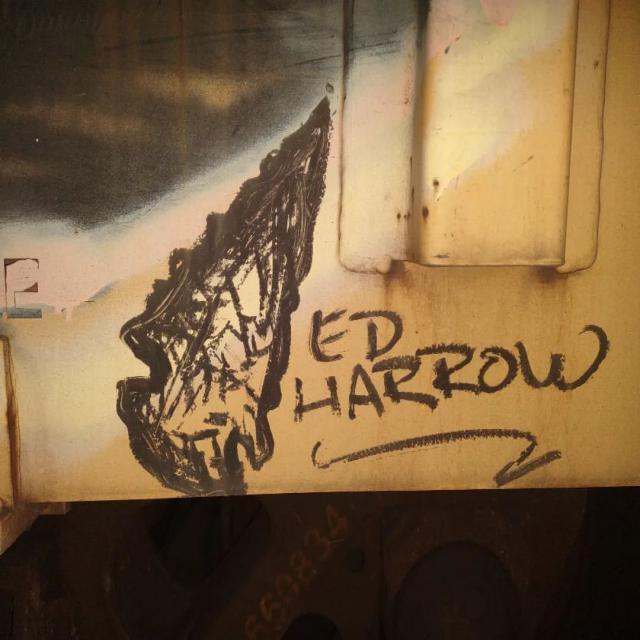nonspitting: (117, 94, 611, 500)
